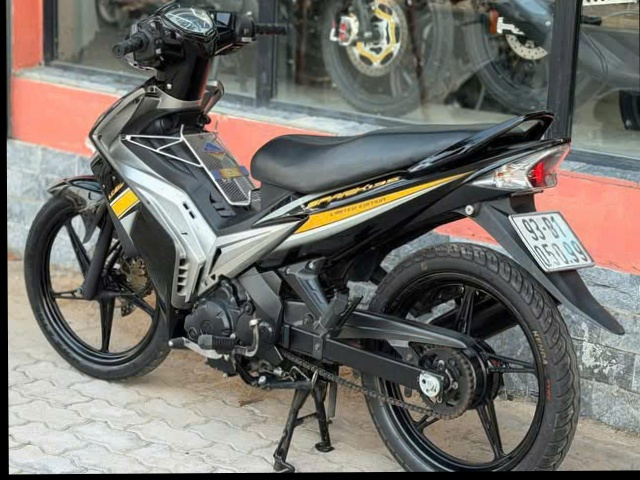Bien-so: (510, 211, 600, 275)
